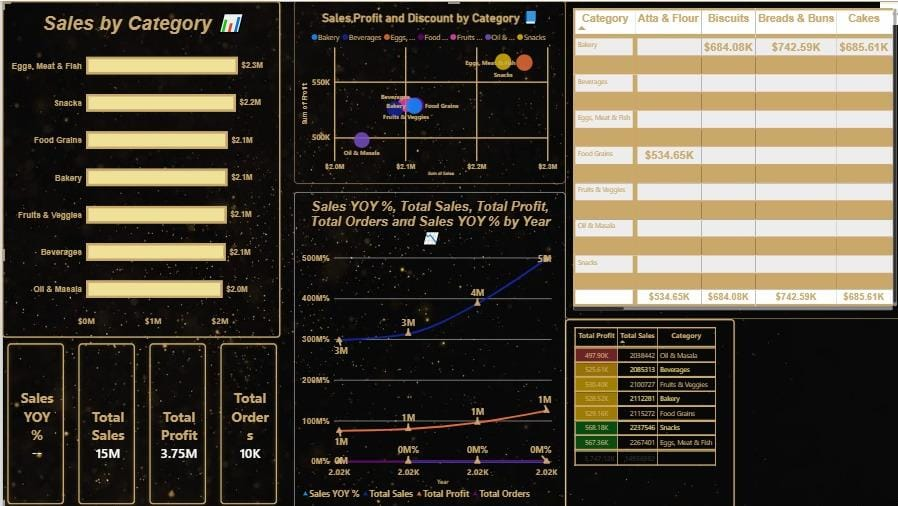

Layout of this report page (visuals, bound fields, positions):
{"tool":"powerbi","page":{"name":"Sales & Profit Analysis","canvas":[1920,1080],"ordinal":2},"visuals":[{"type":"image","box":[0,0,1920,1080.9],"z":0},{"type":"tableEx","fields":{"Values":["DAX.Total Profit","DAX.Total Sales","Dim_Product.Category"]},"box":[1196.9,675.3,723.1,405.7],"z":1000},{"type":"scatterChart","title":"Sales,Profit and Discount by Category  📘","fields":{"Series":["Dim_Product.Category"],"Size":["Sum(Fact_Sales.Discount)"],"X":["Sum(Fact_Sales.Sales)"],"Y":["Sum(Fact_Sales.Profit)"]},"box":[619.8,0,577,388],"z":2000},{"type":"pivotTable","fields":{"Columns":["Dim_Product.Sub_Category"],"Rows":["Dim_Product.Category"],"Values":["Sum(Fact_Sales.Sales)"]},"box":[1196.9,0,723.1,675.3],"z":3000},{"type":"clusteredBarChart","title":"Sales by Category  📊","fields":{"Category":["Dim_Product.Category"],"Y":["Sum(Fact_Sales.Sales)"]},"box":[0,0,592.1,715.6],"z":4000},{"type":"lineChart","title":"Sales YOY %, Total Sales, Total Profit, Total Orders and Sales YOY % by Year  📉","fields":{"Category":["Dim_Date.Year"],"Y":["DAX.Sales YOY %","DAX.Total Sales","DAX.Total Profit","DAX.Total Orders"]},"box":[619.8,405.7,577,675.3],"z":5000},{"type":"cardVisual","fields":{"Data":["DAX.Sales YOY %","DAX.Total Sales","DAX.Total Profit","DAX.Total Orders"]},"box":[0,715.6,619.8,365.4],"z":6000}]}

Visuals, with their boxes in screenshot pixels (x1, y1, x2, y2), scaled from the page's 1920x1080 canvas onto the 898x506 screenshot:
image: {"x1": 0, "y1": 0, "x2": 897, "y2": 505}
tableEx - DAX.Total Profit x DAX.Total Sales: {"x1": 560, "y1": 316, "x2": 897, "y2": 505}
"Sales,Profit and Discount by Category  📘" scatterChart: {"x1": 290, "y1": 0, "x2": 560, "y2": 182}
pivotTable - Dim_Product.Sub_Category x Dim_Product.Category: {"x1": 560, "y1": 0, "x2": 897, "y2": 316}
"Sales by Category  📊" clusteredBarChart: {"x1": 0, "y1": 0, "x2": 277, "y2": 335}
"Sales YOY %, Total Sales, Total Profit, Total Orders and Sales YOY % by Year  📉" lineChart: {"x1": 290, "y1": 190, "x2": 560, "y2": 505}
cardVisual - DAX.Sales YOY % x DAX.Total Sales: {"x1": 0, "y1": 335, "x2": 290, "y2": 505}
